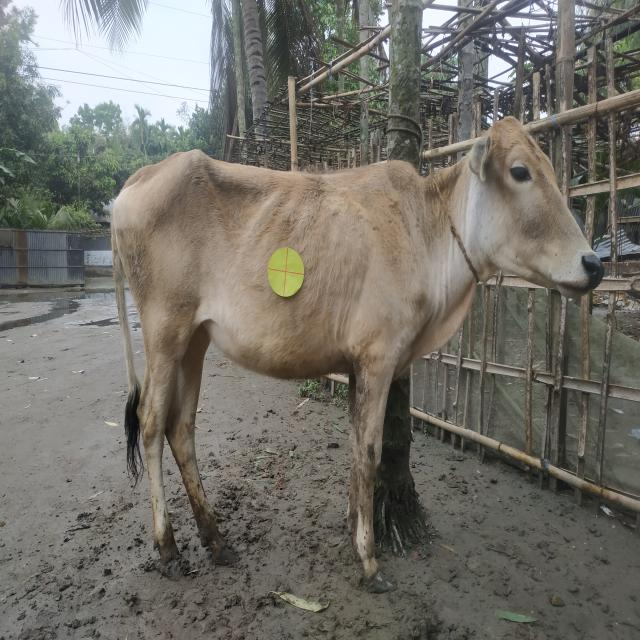badan_sapi: (117, 166, 431, 378)
sapi: (94, 94, 608, 592)
